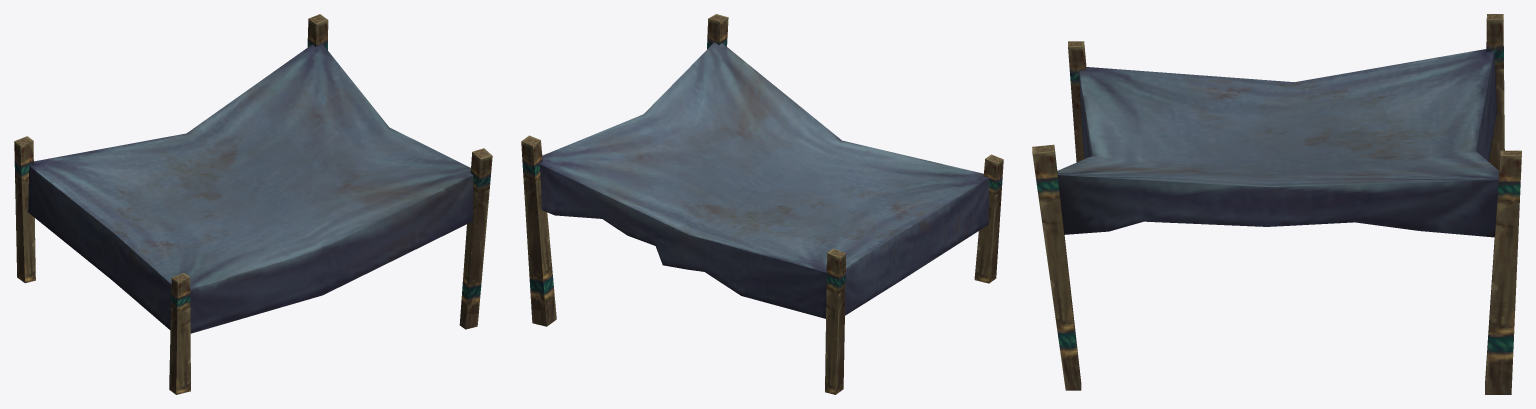
File: building_shamo_zhangpeng.FBX
3 views of the same model, side by side, from view 1: azimuth 30°, elevation 25°; view 2: azimuth 150°, elevation 25°; view 3: azimuth 270°, elevation 25° (orthographic). The views are drawn at different scales.
Visible parts, largest first — view 1: building_shamo_zhangpeng; view 2: building_shamo_zhangpeng; view 3: building_shamo_zhangpeng.
Part boxes in pixels (left/top/right/bottom): building_shamo_zhangpeng: left=14, top=14, right=492, bottom=394; building_shamo_zhangpeng: left=521, top=14, right=1003, bottom=394; building_shamo_zhangpeng: left=1032, top=14, right=1521, bottom=394.
Bounding box in the file's own units: 7.62 × 4.26 × 7.76.
